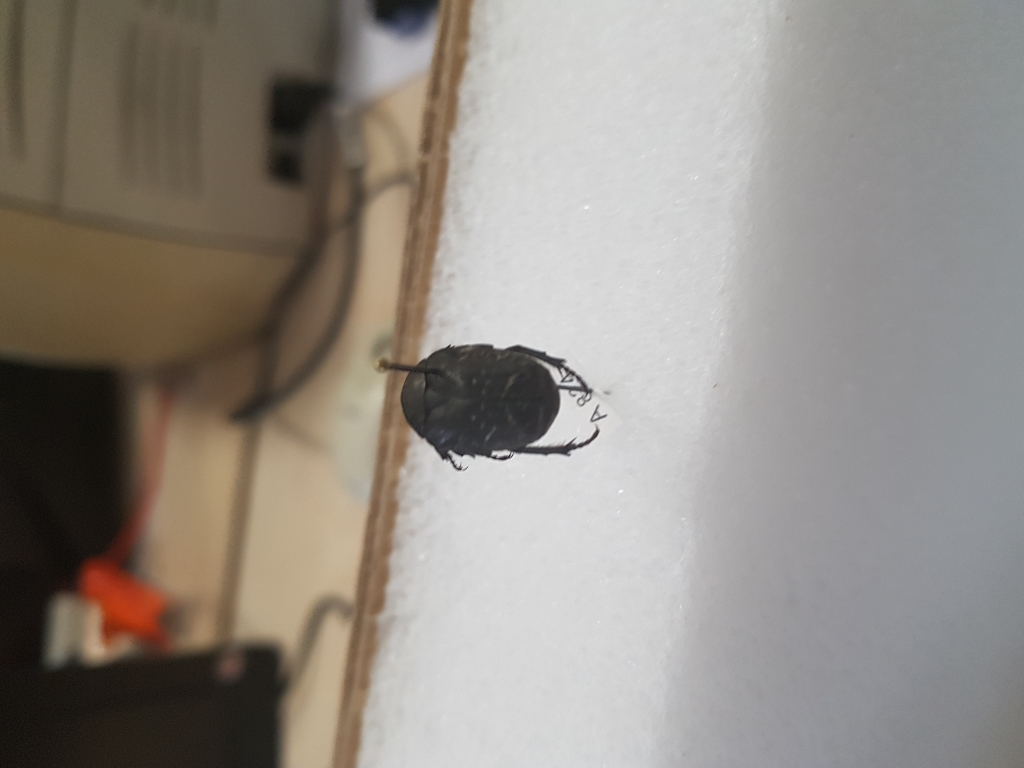Protaetia_oblonga: (392, 330, 607, 474)
